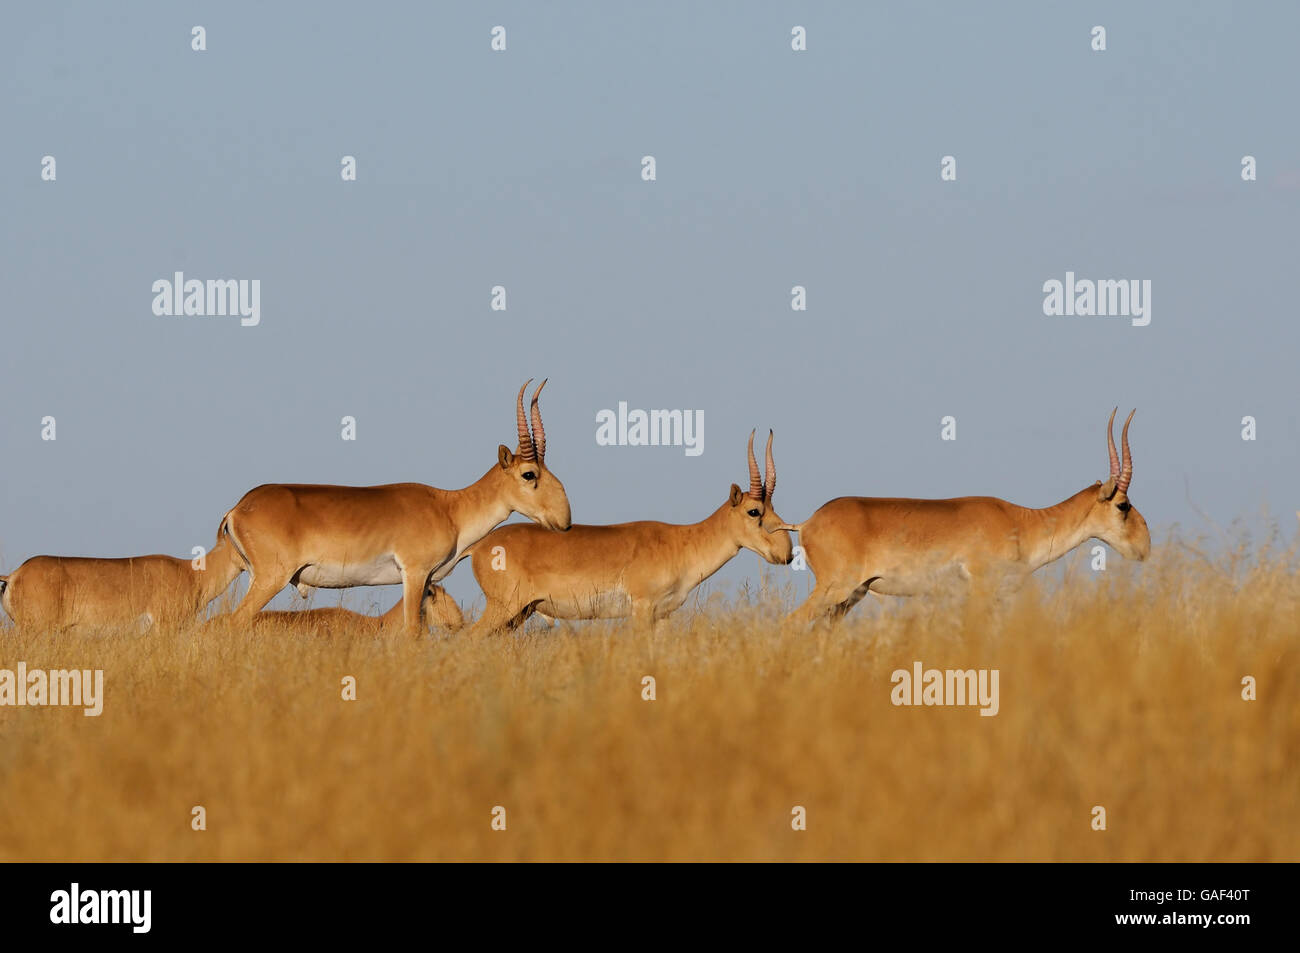saiga: (222, 368, 573, 665), (803, 403, 1167, 633), (464, 426, 811, 664)
